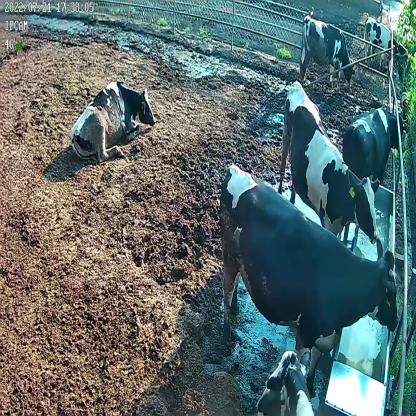cow: (218, 160, 398, 390), (276, 78, 379, 248), (69, 78, 155, 161), (342, 108, 408, 188), (297, 11, 355, 90), (363, 16, 409, 64)
